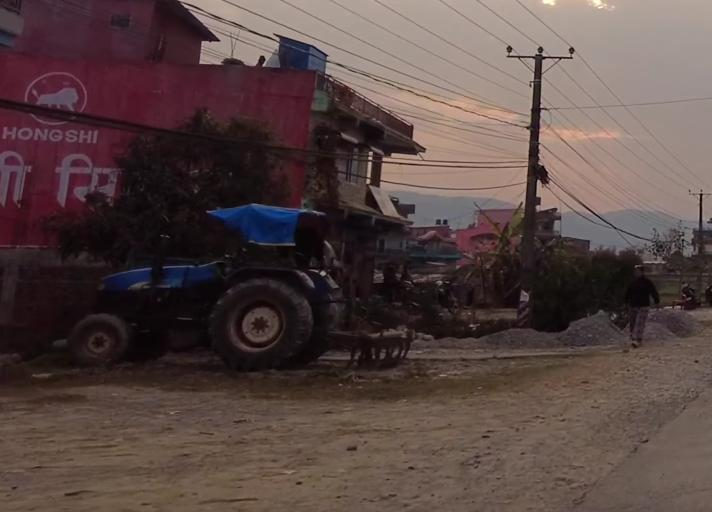tractor: (56, 184, 409, 387)
